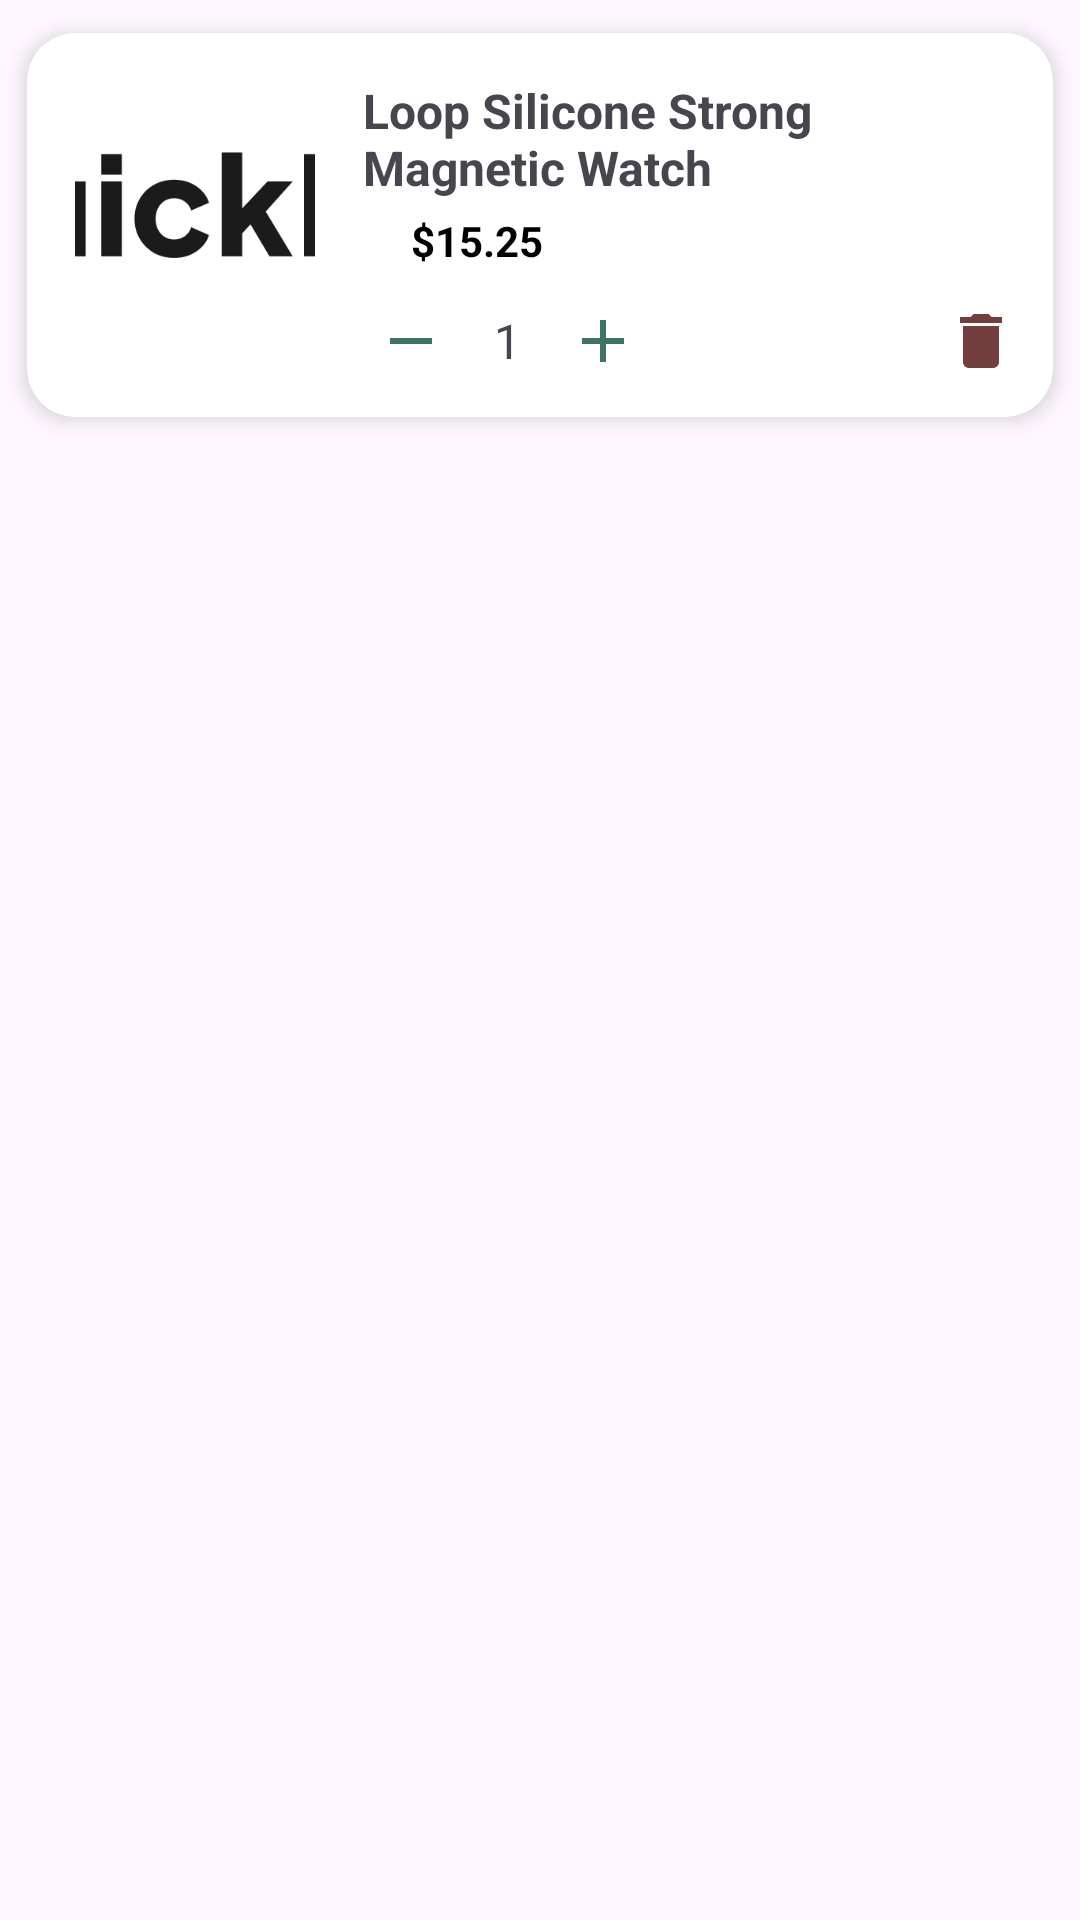

Screen size 1080w x 1920h. Icon name, then its center in pixels as [x,y]:
add: [603,341]
delete: [981,341]
